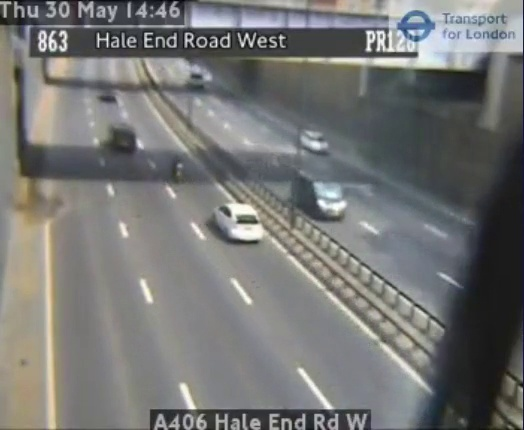car: (214, 204, 263, 241)
